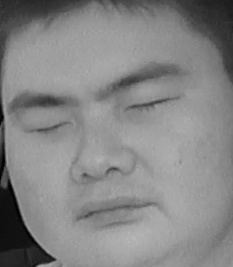blink: (123, 88, 181, 125), (27, 110, 73, 144)
mouth: (69, 189, 161, 233)
